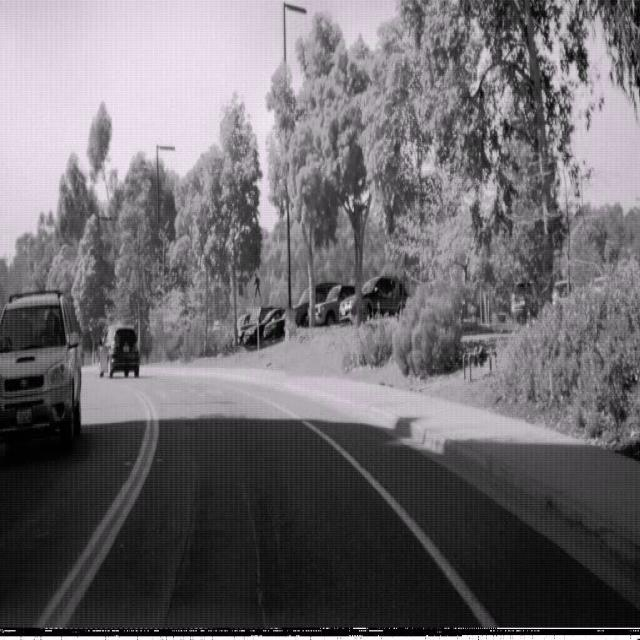pedestrianCrossing: (246, 265, 268, 308)
